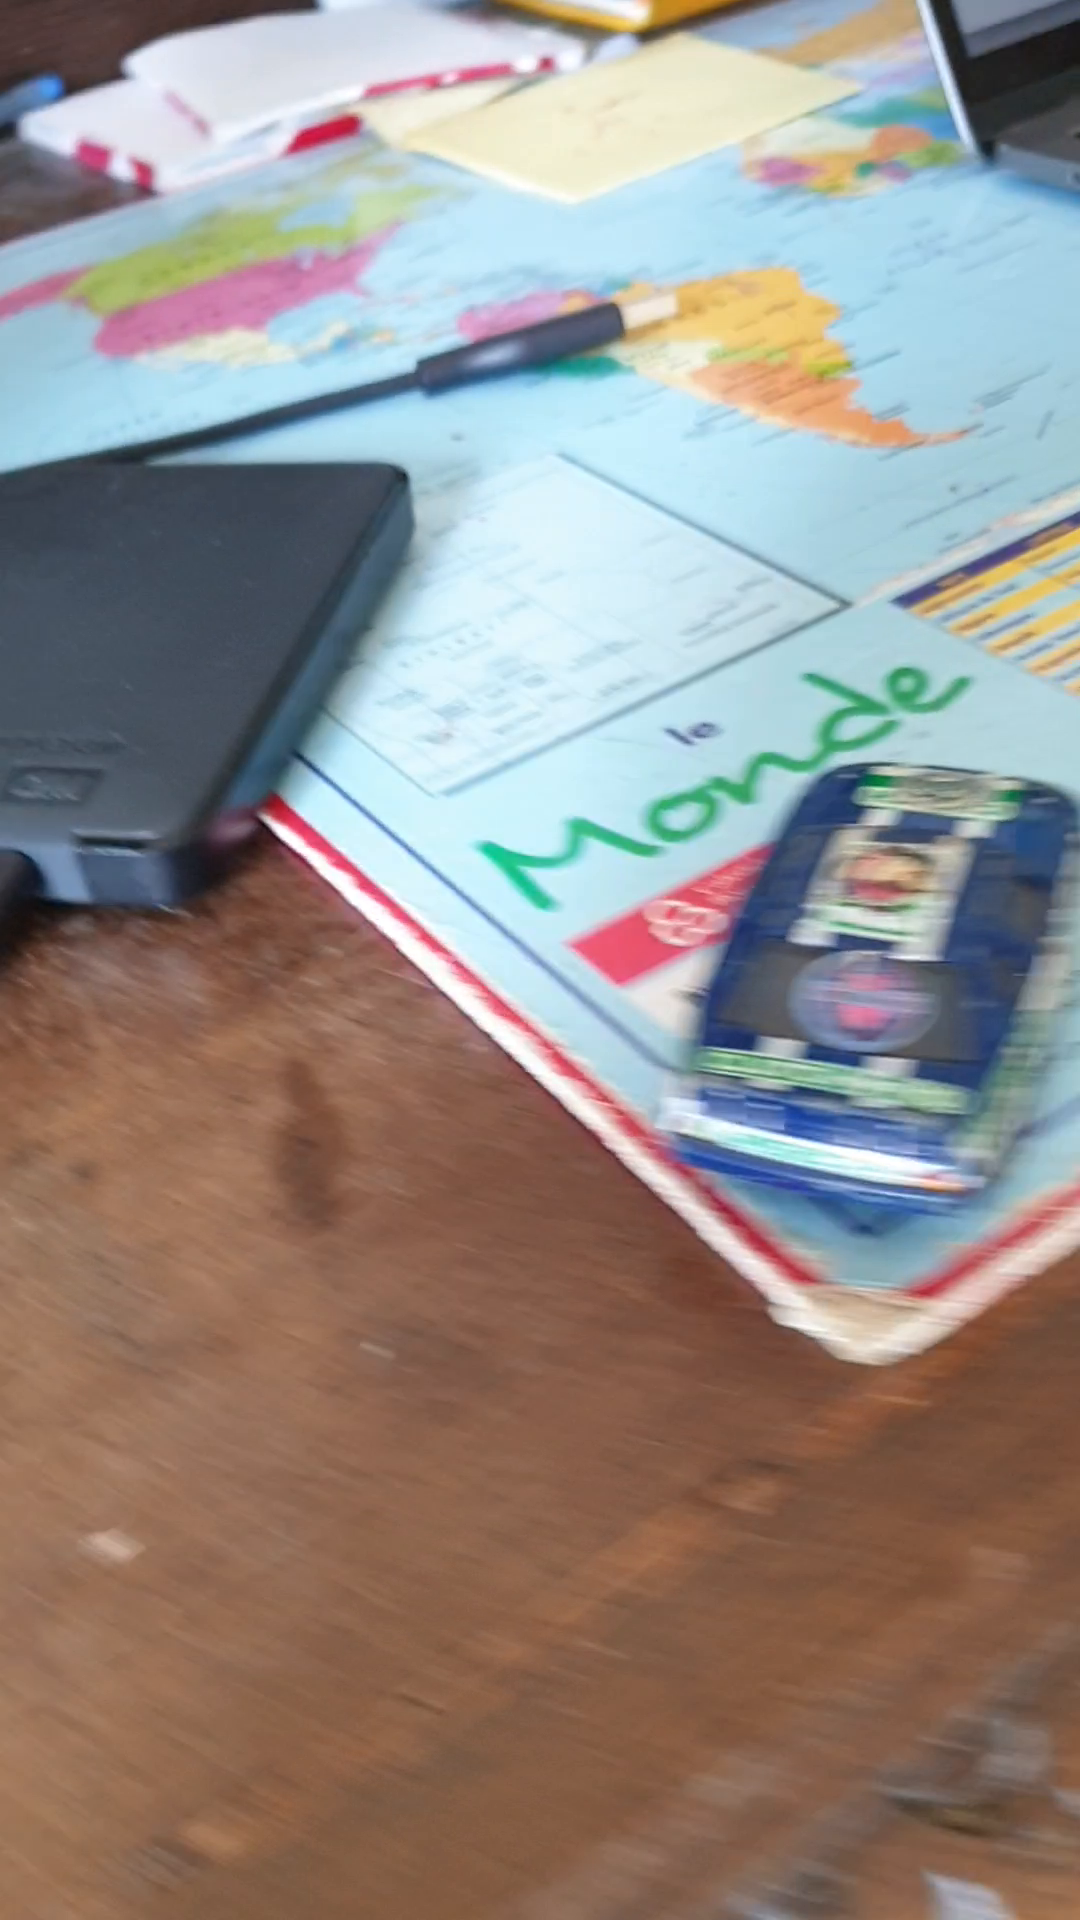cars: (653, 758, 1080, 1226)
